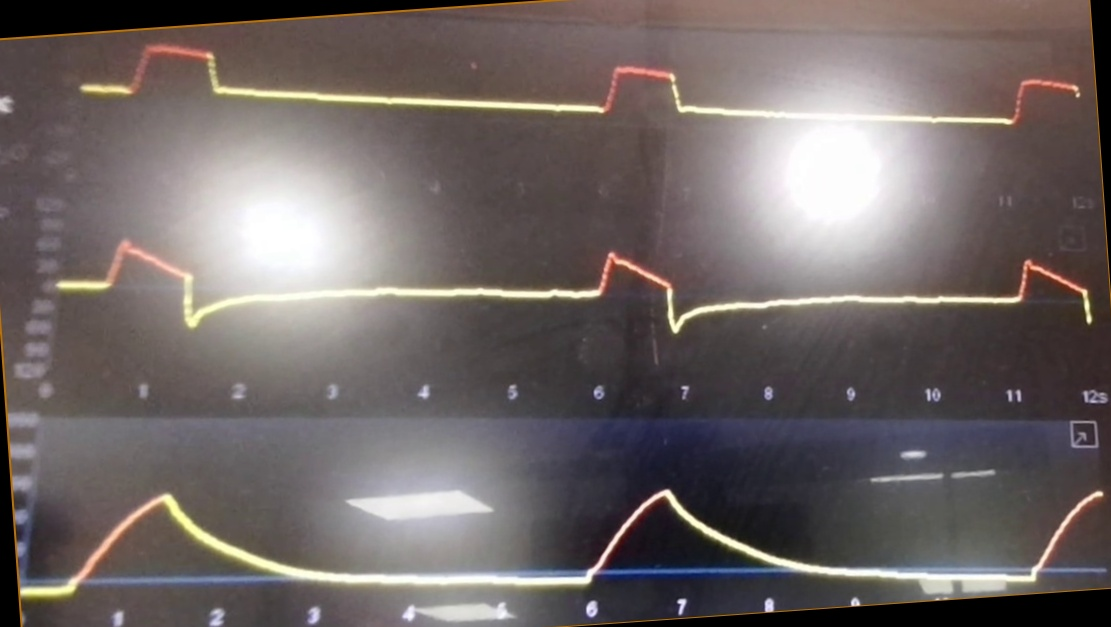Normal Flow: (60, 200, 1104, 357)
Normal Volume: (22, 449, 1108, 600)
